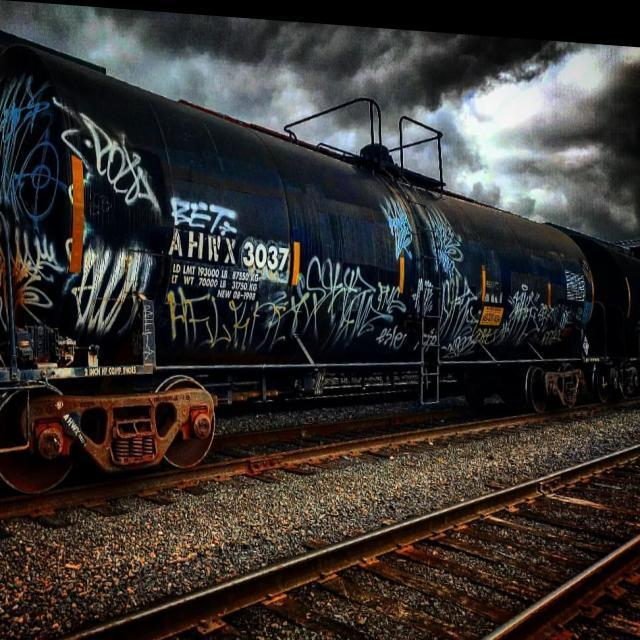-: (292, 244, 409, 354), (67, 92, 160, 225), (442, 264, 574, 351), (164, 218, 294, 302), (62, 226, 150, 346), (168, 277, 292, 354), (0, 74, 58, 220), (0, 218, 64, 335), (166, 186, 240, 233), (368, 192, 420, 253), (421, 196, 465, 258), (410, 263, 438, 316)
